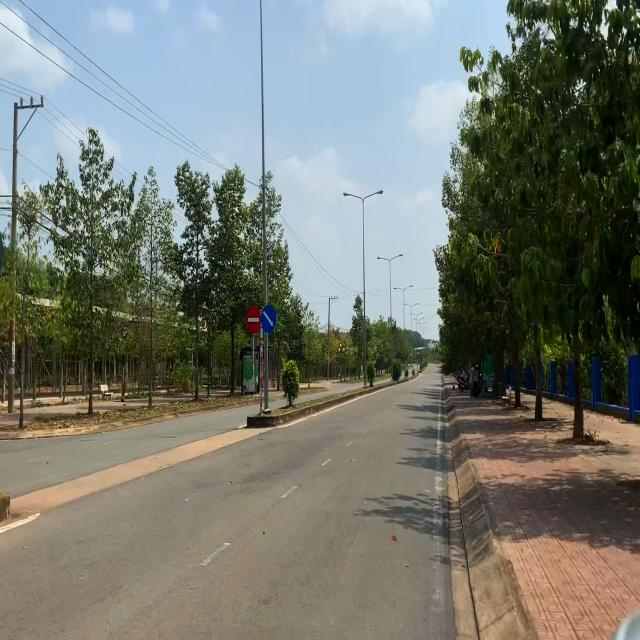Cam nguoc chieu: (246, 305, 261, 334)
Hieu lenh: (261, 304, 276, 334)
